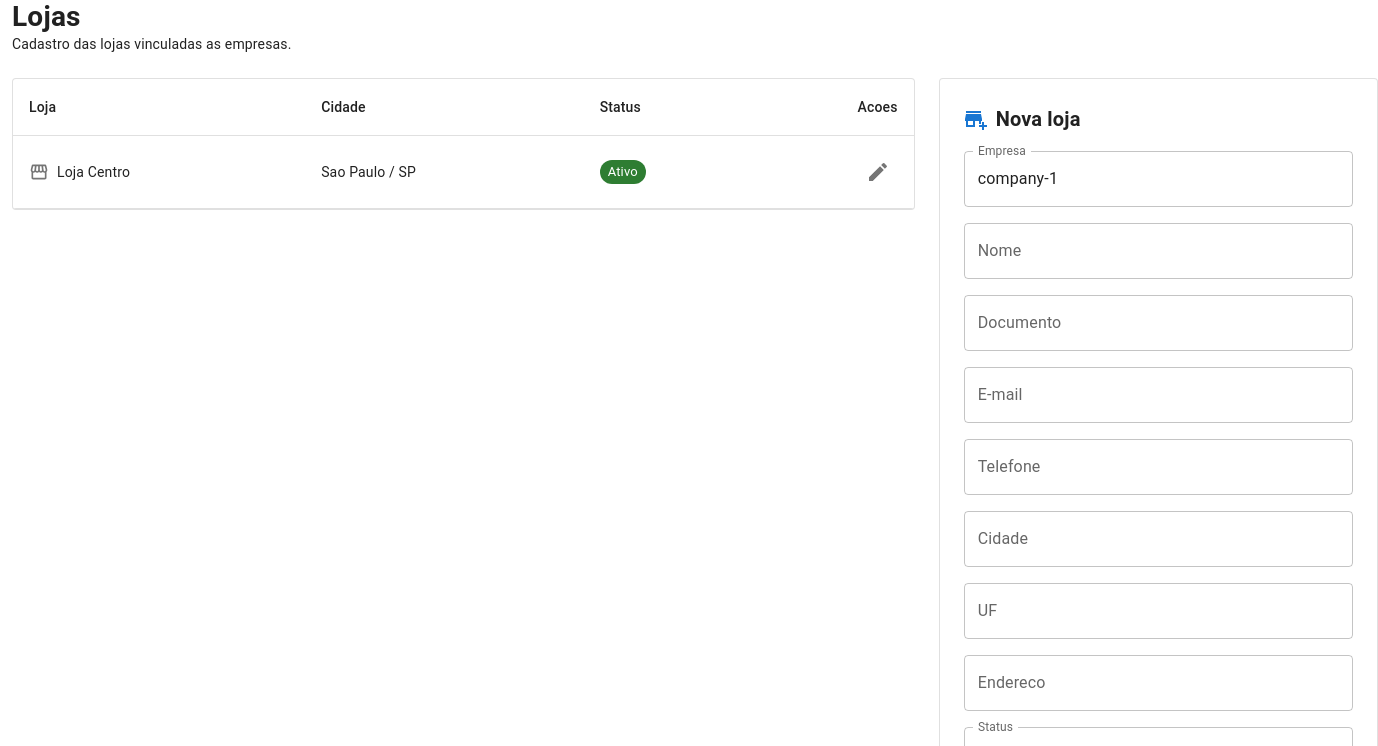
Test: StoresPage › deve validar campos obrigatorios antes de cadastrar loja
The width and height of the screenshot is (1378, 746).
Clear the field labelled "Nome" at (1158, 251), box top-left (964, 223), bottom-right (1353, 279)
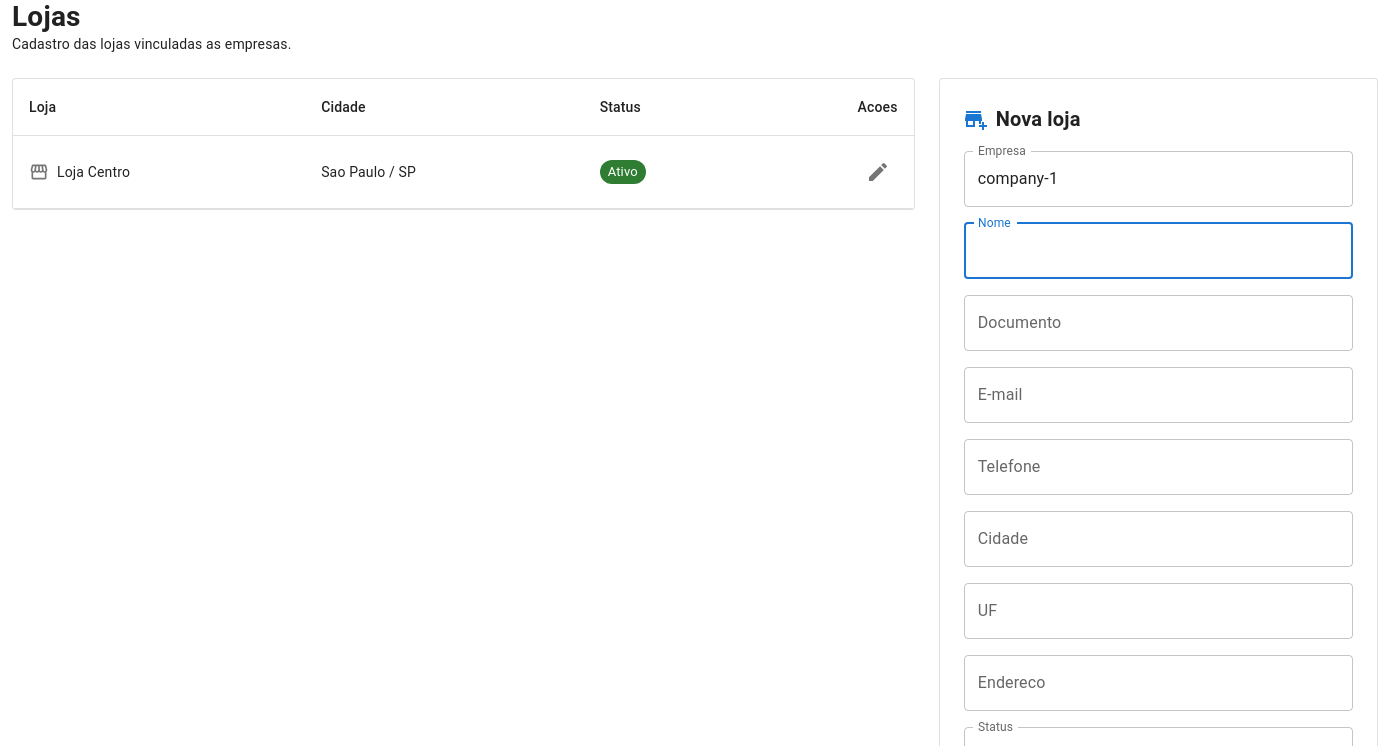
Clear the field labelled "Documento" at (1158, 323), box top-left (964, 295), bottom-right (1353, 351)
(page scrolled)
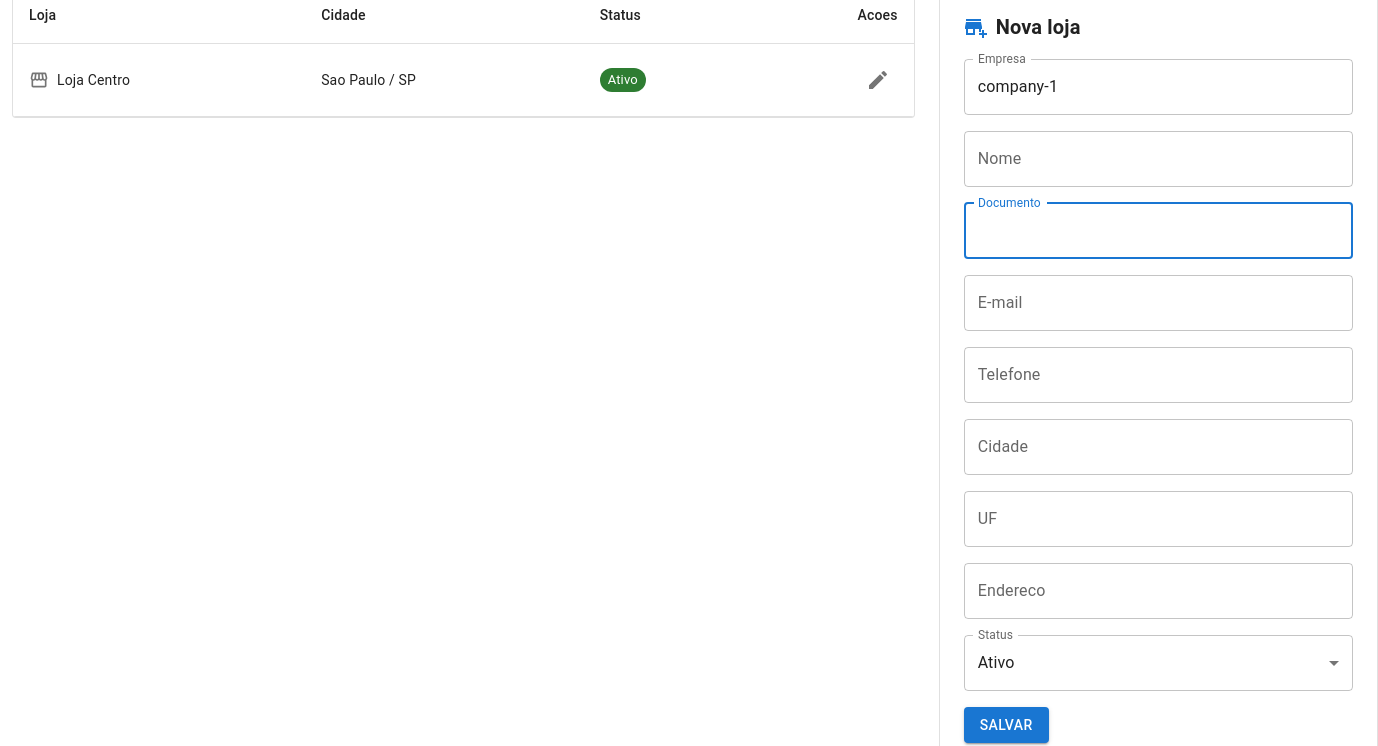
Click the button "Salvar" at (1006, 725), box top-left (964, 707), bottom-right (1049, 743)
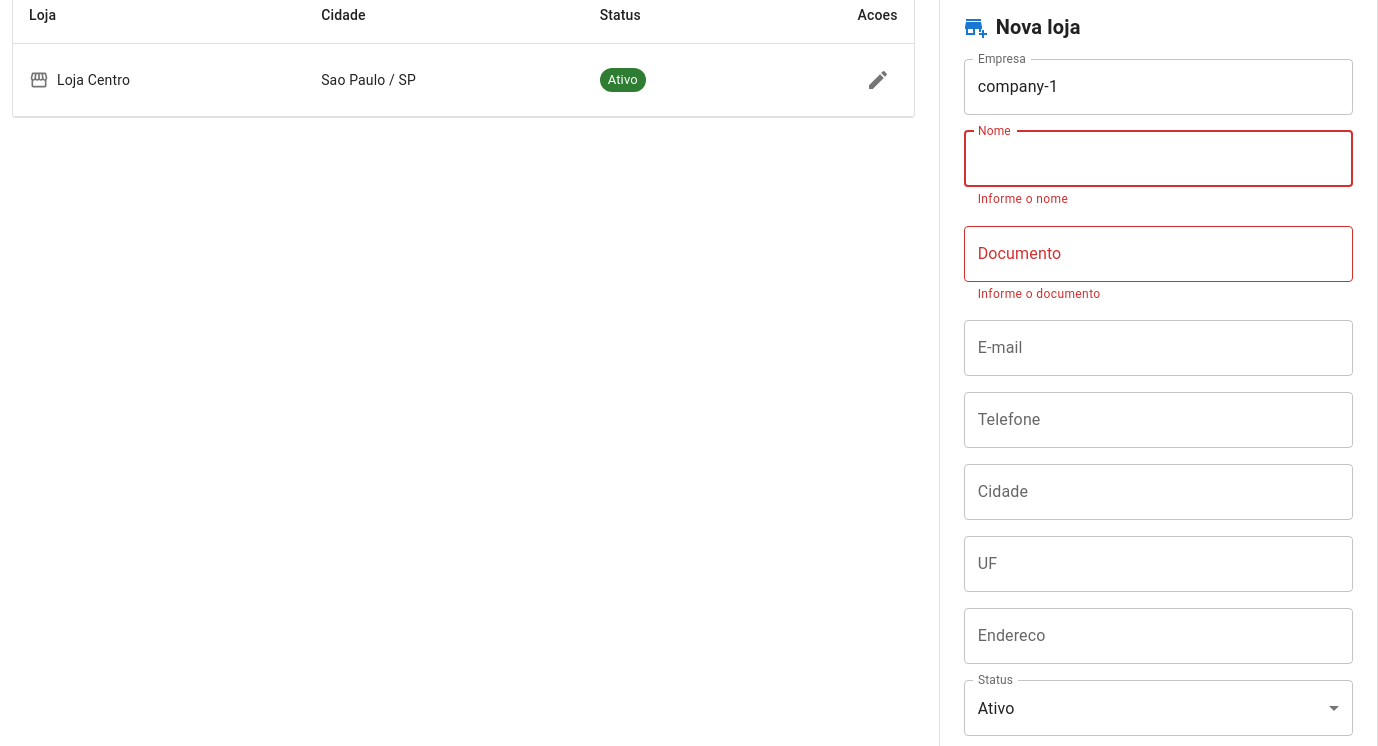
Expected: the text "Informe o nome" is shown, top-left (978, 192), bottom-right (1068, 206)
Expected: the text "Informe o documento" is shown, top-left (978, 286), bottom-right (1101, 300)
